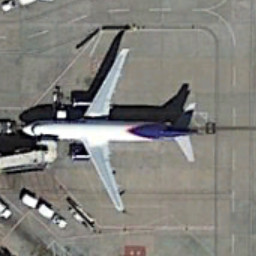Airplane: (14, 40, 207, 215)
